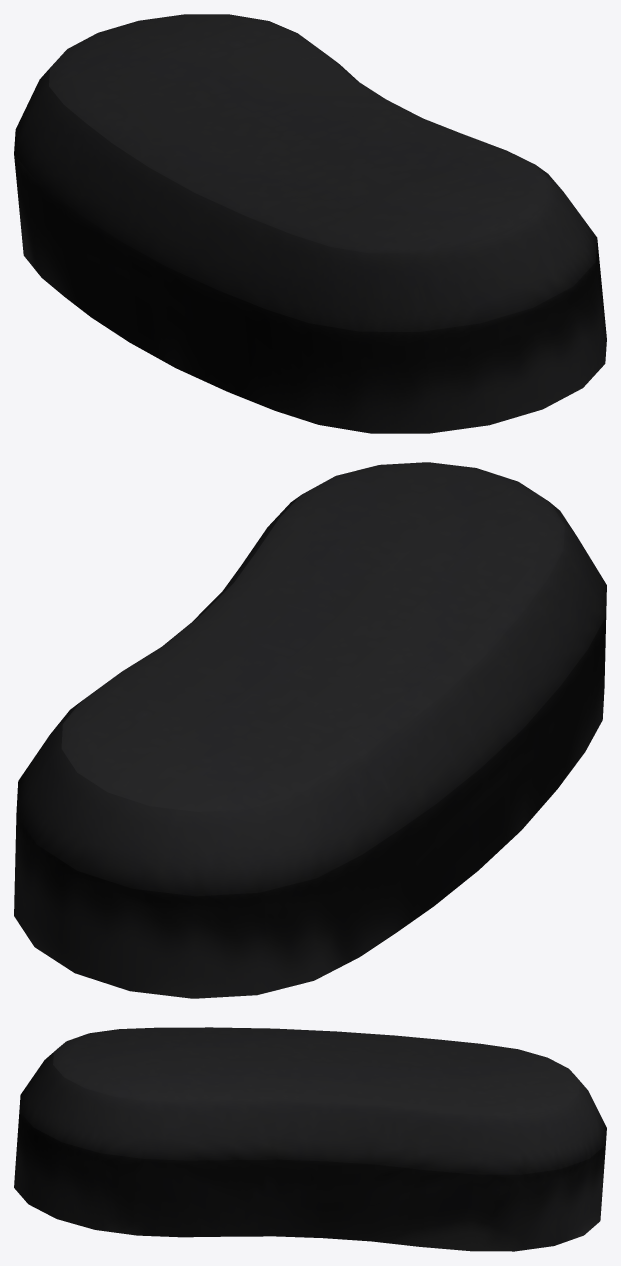
The model's file is button_a_left.obj.
3 renders of one model, top to bottom at view 1: azimuth 30°, elevation 25°; view 2: azimuth 150°, elevation 25°; view 3: azimuth 270°, elevation 25°, orthographic. The views are drawn at different scales.
Visible parts, largest first — view 1: button_face_a; view 2: button_face_a; view 3: button_face_a.
Part boxes in pixels (x1,y1,x2,y2): button_face_a: [14, 14, 606, 433]; button_face_a: [14, 462, 606, 998]; button_face_a: [14, 1027, 606, 1251].
Bounding box in the file's own units: 0.00902 × 0.00562 × 0.0186.
1 material, 1 textured.
